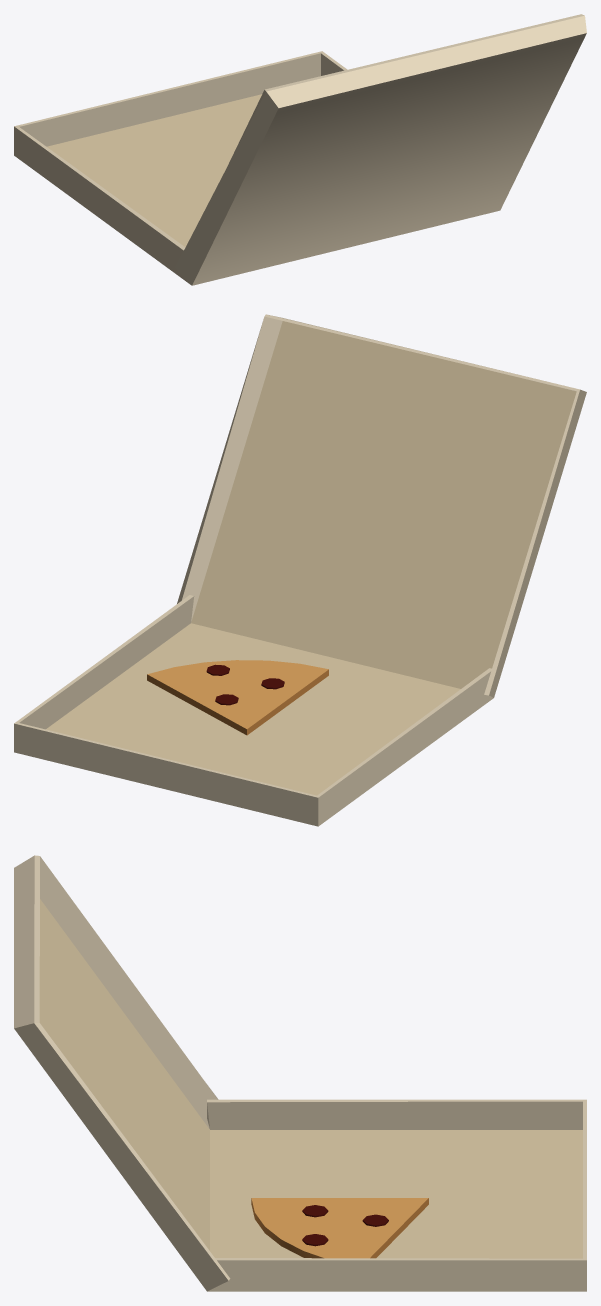
The model's file is PizzaBox.fbx.
3 views of the same model, one above another, from view 1: azimuth 30°, elevation 25°; view 2: azimuth 150°, elevation 25°; view 3: azimuth 270°, elevation 25° (orthographic). The views are drawn at different scales.
Parts seen in each view (by area): view 1: PizzaBox; view 2: PizzaBox; view 3: PizzaBox.
Part boxes in pixels (x1=…): PizzaBox: x1=14, y1=14, x2=586, y2=285; PizzaBox: x1=14, y1=314, x2=586, y2=826; PizzaBox: x1=14, y1=855, x2=586, y2=1291.
Size of the model in its own units: 0.5253 by 0.3981 by 0.7596.
